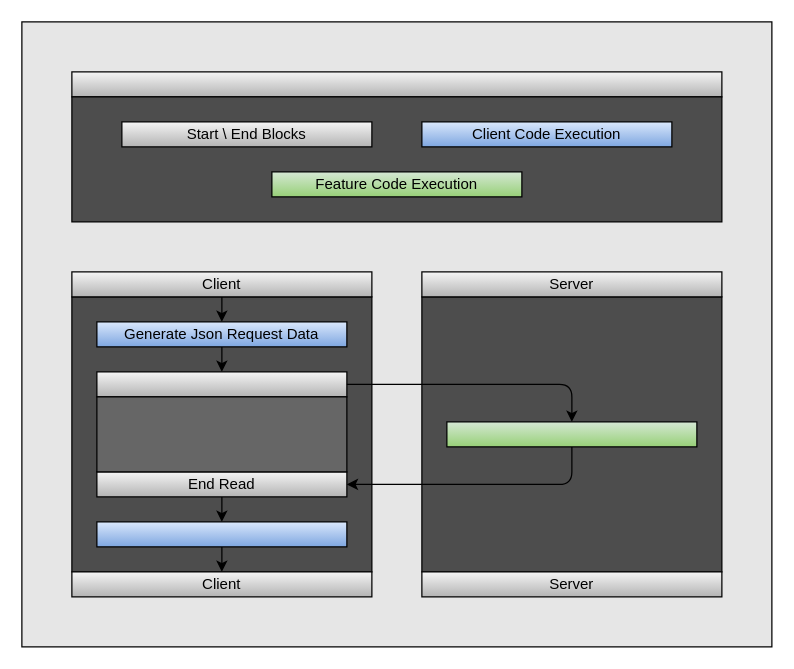
Some shapes in this 794 by 669 pixel diagram are drawn without their labels. The centre of each missing label's shape, as x and y in pixels:
"Begin Read" goes at point (221, 384).
"Legend" goes at point (396, 84).
"Manipulate Json Response Data" goes at point (221, 534).
"Read" goes at point (571, 434).
